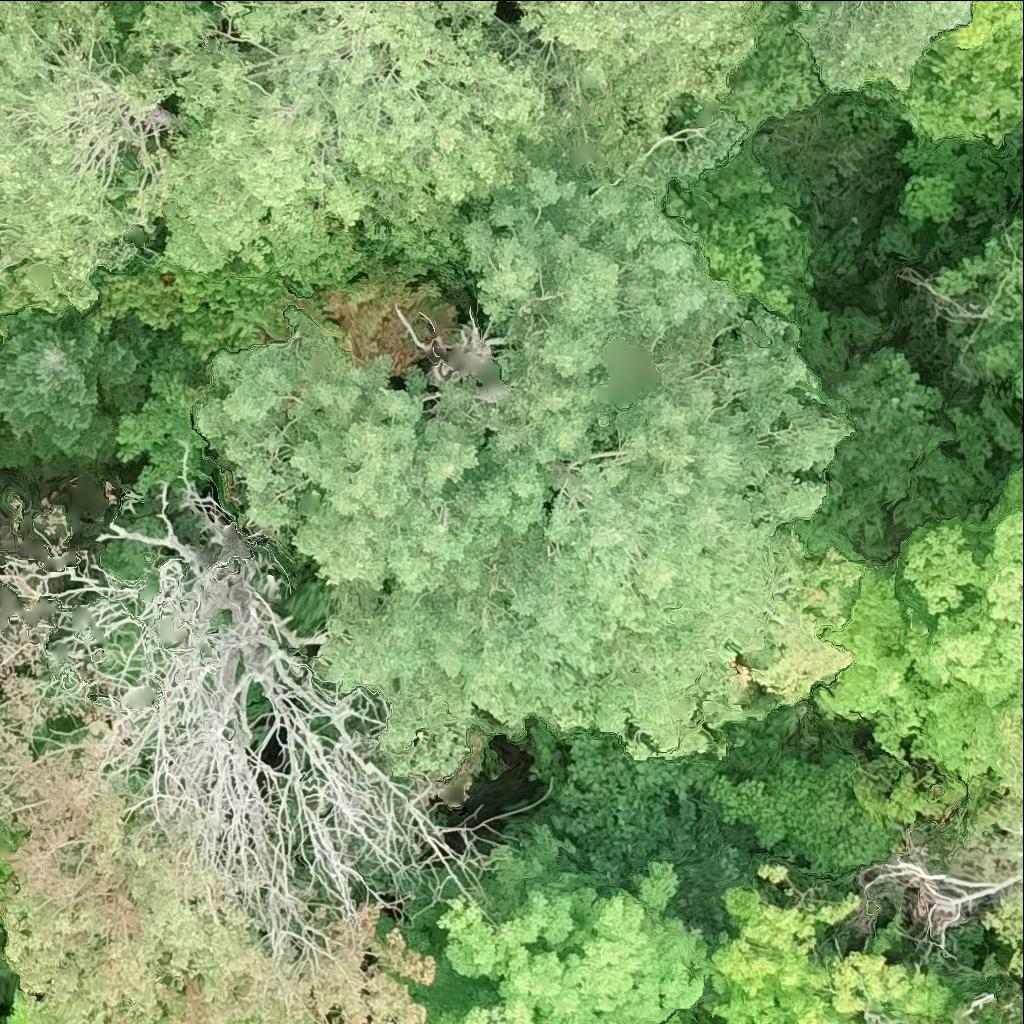crown: (197, 119, 867, 782), (0, 489, 469, 1023), (0, 0, 552, 308), (804, 476, 1023, 772), (442, 864, 705, 1023), (718, 0, 978, 141), (522, 0, 756, 155), (703, 888, 952, 1023), (547, 728, 728, 877), (862, 0, 1023, 148), (0, 306, 136, 459), (857, 834, 1010, 947), (969, 802, 1023, 982), (5, 985, 35, 1023), (0, 856, 14, 890), (0, 902, 4, 934), (445, 1018, 457, 1023)
